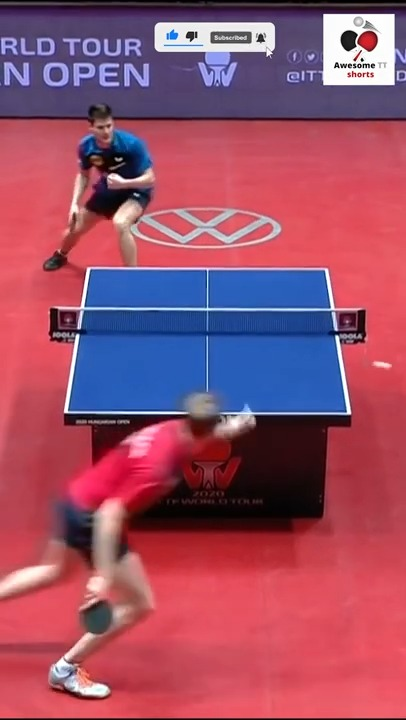Ball: (371, 358, 393, 372)
